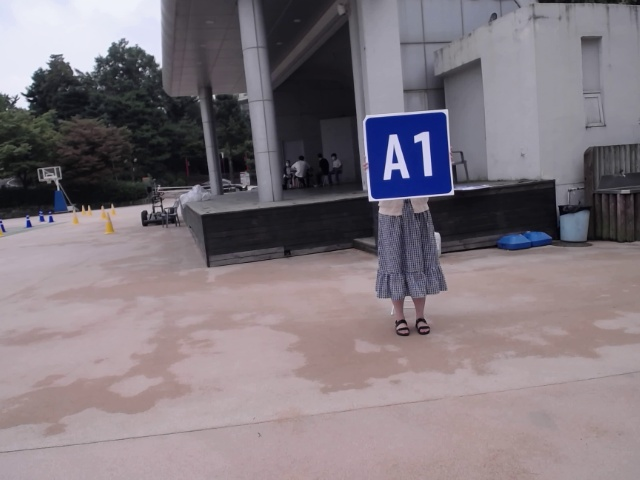delivery_a1: (364, 110, 453, 201)
